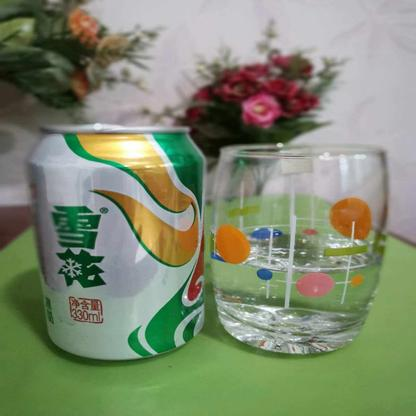can: (25, 117, 207, 360)
